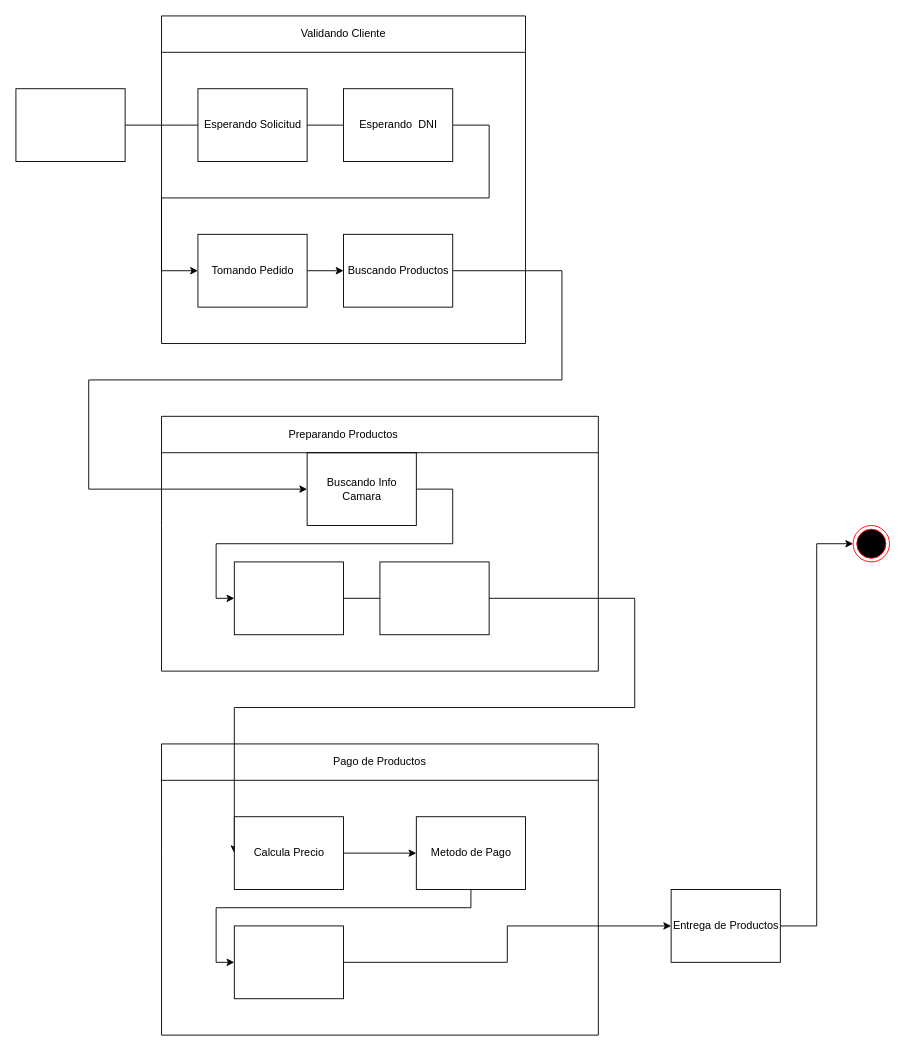
The diagram is 905 pixels wide and 1052 high, and some of its shapes have lost their labels. Here are the shapes that lost their labels. From the top down, the centre of each, then its label:
At point 70,125: "Esperando Cliente".
At point 288,598: "Buscando Info Pelicula".
At point 434,598: "Ensamblando Productos".
At point 288,962: "Pago exitoso".
